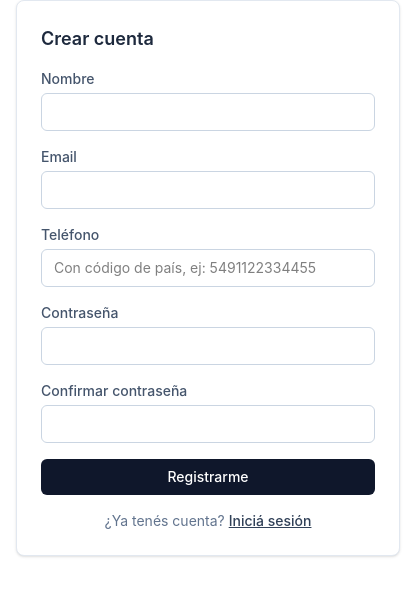
Test case: Register › muestra error si las contraseñas no coinciden
Type "Test" into the field labelled "Nombre" at (208, 112), box [41, 93, 375, 131]
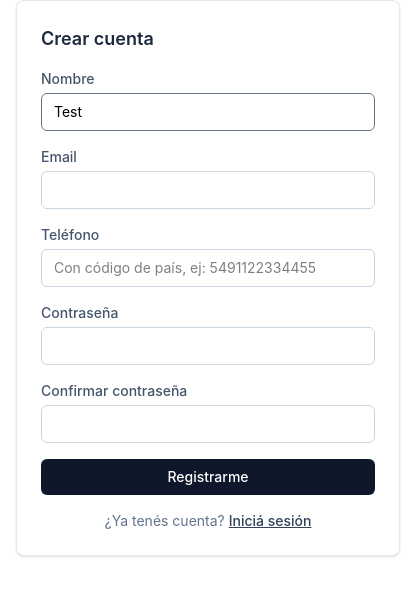
Type "test@example.com" into the field labelled "Email" at (208, 190), box [41, 171, 375, 209]
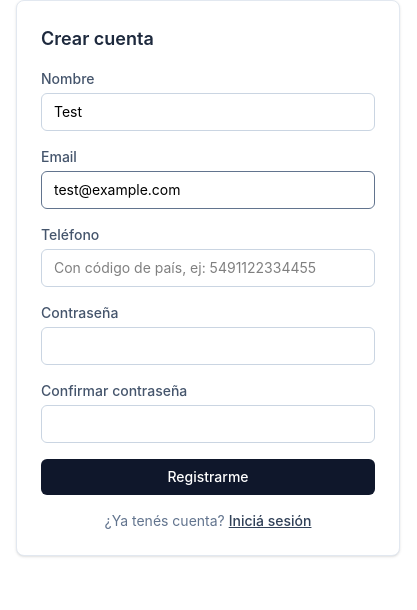
Type "5491122334455" into the field labelled "Teléfono" at (208, 268), box [41, 249, 375, 287]
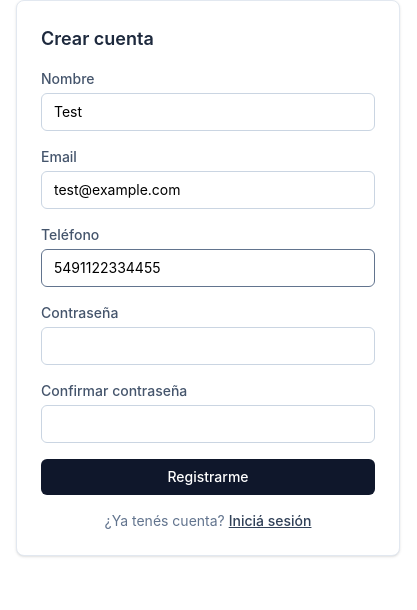
Type "1234" into the password field labelled "Contraseña" at (208, 346), box [41, 327, 375, 365]
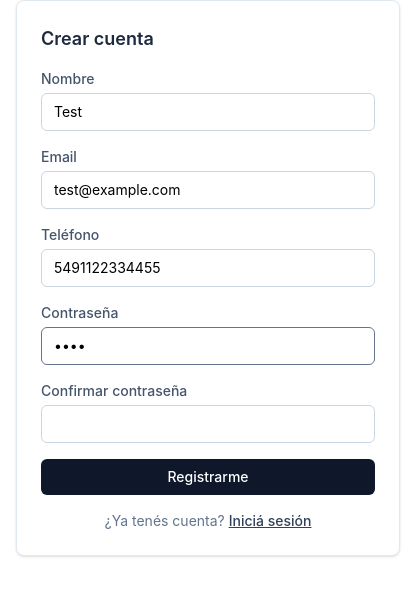
Type "4321" into the password field labelled "Confirmar contraseña" at (208, 424), box [41, 405, 375, 443]
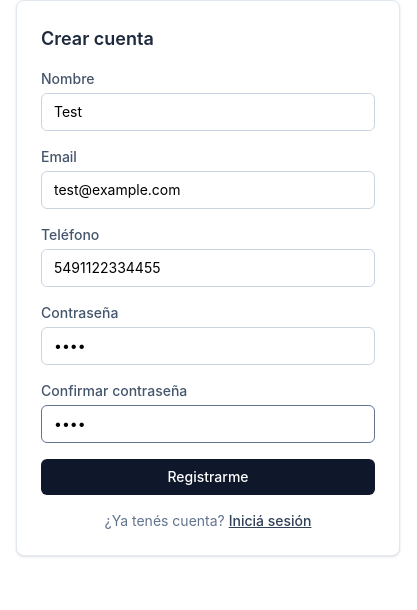
Click the button "Registrarme" at (208, 477), box [41, 459, 375, 495]
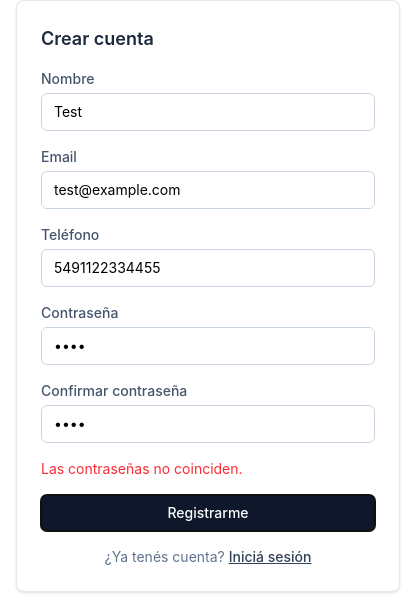
Expected: the text "Las contraseñas no coinciden." is shown, [41, 460, 243, 477]
